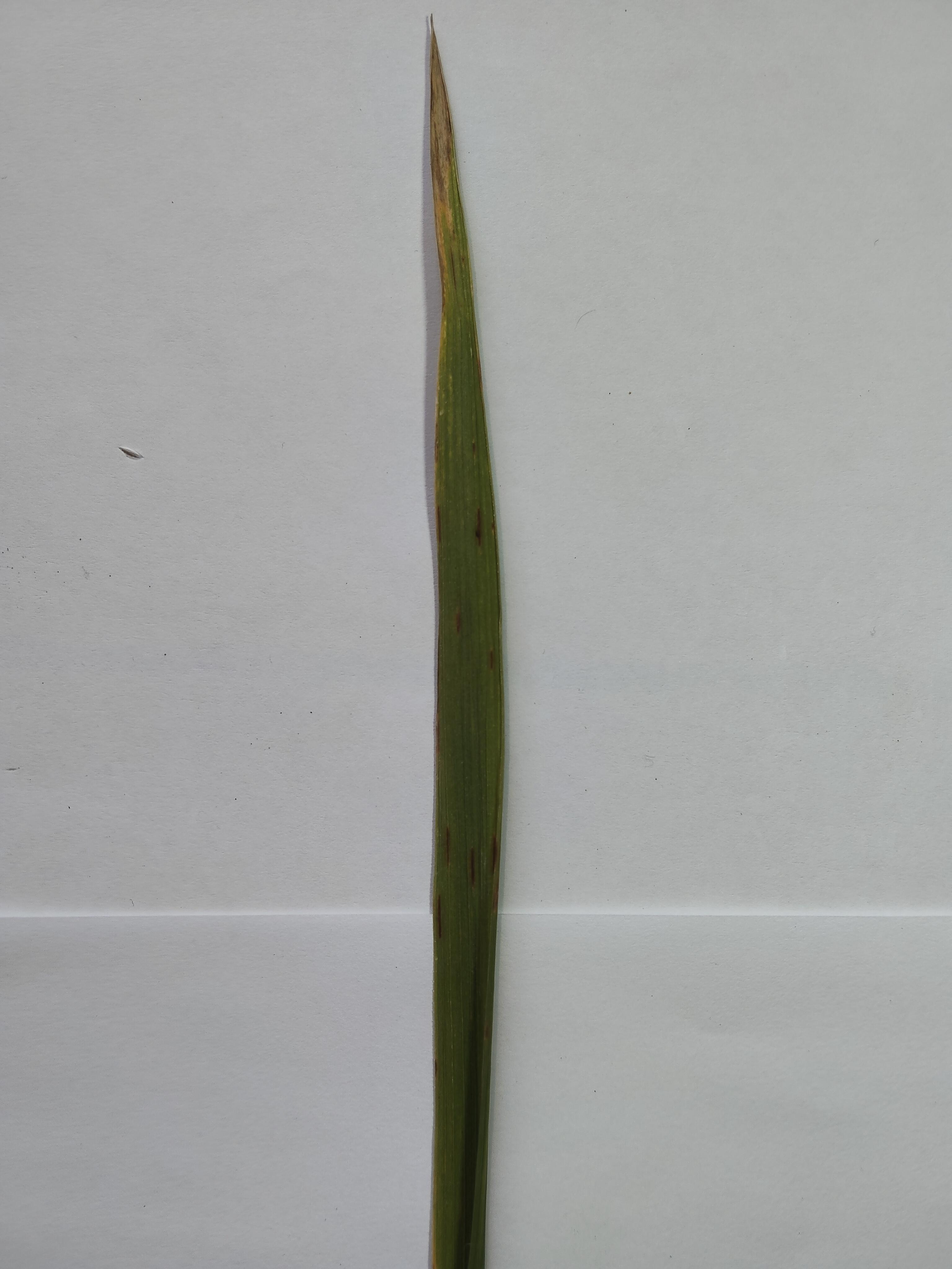NBS: (491, 834, 499, 874), (436, 894, 442, 938), (445, 825, 451, 868), (476, 507, 481, 545), (436, 506, 441, 544), (470, 847, 474, 886), (489, 647, 493, 669)
